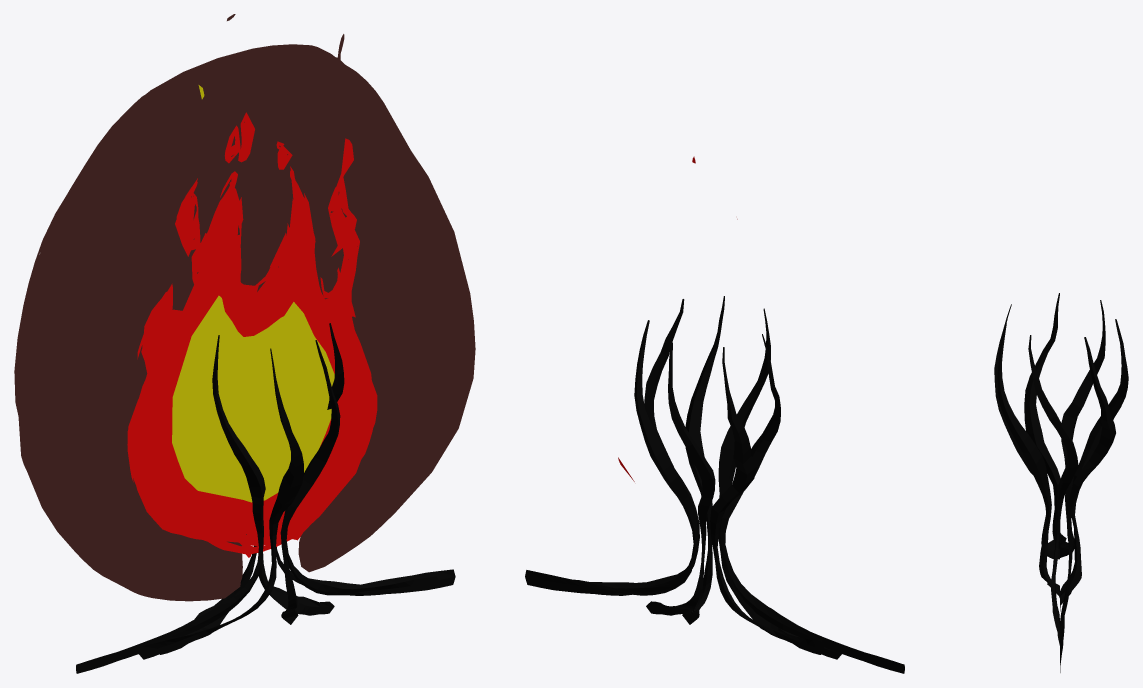
The model's file is fire_scene.gltf.
The picture shows the model from 3 angles, left to right: view 1: azimuth 30°, elevation 25°; view 2: azimuth 150°, elevation 25°; view 3: azimuth 270°, elevation 25°; orthographic projection. The views are drawn at different scales.
Visible parts, largest first — view 1: fire2, roots; view 2: roots; view 3: roots.
Boxes of the visible parts, bbox=[...] form: fire2: bbox=[14, 14, 475, 601]; roots: bbox=[76, 323, 455, 673]; roots: bbox=[525, 296, 904, 673]; roots: bbox=[994, 293, 1128, 672].
Bounding box in the file's own units: 7.4 × 9.58 × 2.07.
